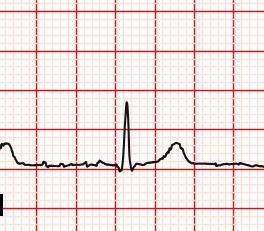LVH: (154, 138, 196, 165)
